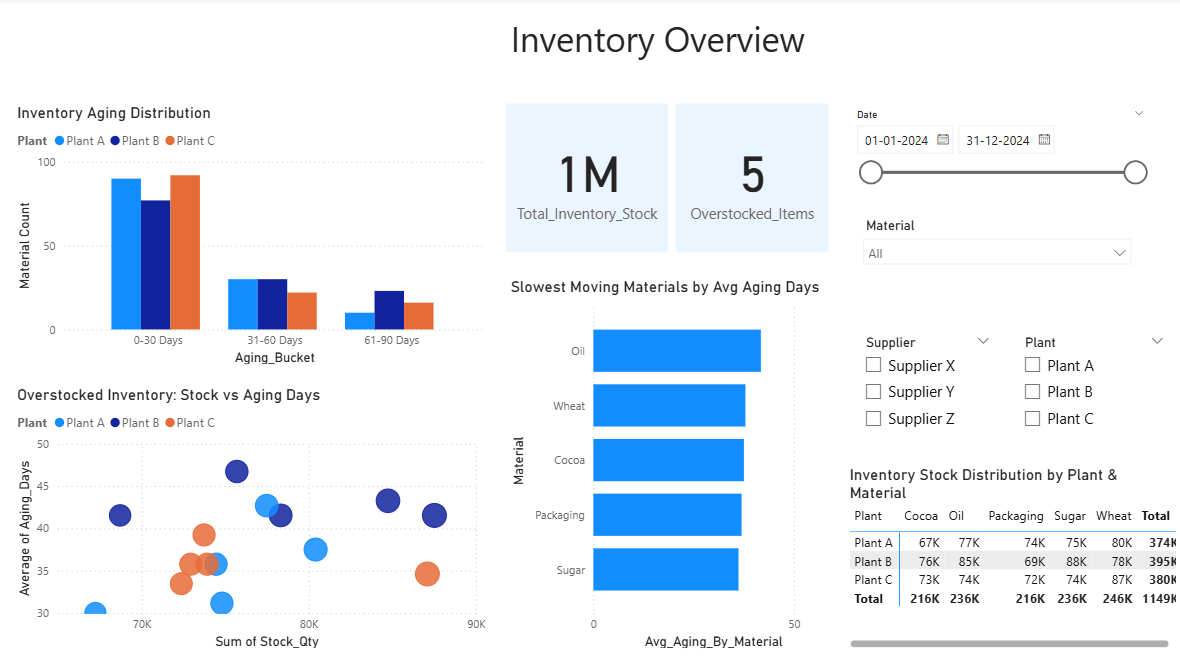

What the dashboard file says about the page in this screenshot:
{"tool":"powerbi","page":{"name":"Inventory Overview","canvas":[1280,720],"ordinal":1},"visuals":[{"type":"textbox","box":[547.3,14.6,348.1,69.6],"z":0},{"type":"clusteredBarChart","title":"Slowest Moving Materials by Avg Aging Days","fields":{"Category":["Inventory_Data.Material"],"Y":["Inventory_Data.Avg_Aging_By_Material"]},"box":[547.3,302.8,365.9,404.8],"z":1000},{"type":"scatterChart","title":"Overstocked Inventory: Stock vs Aging Days","fields":{"X":["Sum(Inventory_Data.Stock_Qty)"],"Size":["Sum(Inventory_Data.Stock_Qty)"],"Category":["Inventory_Data.Material"],"Y":["Avg(Inventory_Data.Aging_Days)"],"Series":["Inventory_Data.Plant"]},"box":[14.6,419.4,514.9,288.2],"z":2000},{"type":"pivotTable","title":"Inventory Stock Distribution by Plant & Material","fields":{"Rows":["Inventory_Data.Plant"],"Columns":["Inventory_Data.Material"],"Values":["Sum(Inventory_Data.Stock_Qty)"]},"box":[913.2,505.2,362.7,202.4],"z":3000},{"type":"clusteredColumnChart","title":"Inventory Aging Distribution","fields":{"Category":["Inventory_Data.Aging_Bucket"],"Y":["CountNonNull(Inventory_Data.Material)"],"Series":["Inventory_Data.Plant"]},"box":[14.6,115,514.9,286.6],"z":4000},{"type":"card","fields":{"Values":["Inventory_Data.Overstocked_Items"]},"box":[730.3,115,165.2,160.3],"z":5000},{"type":"card","fields":{"Values":["Inventory_Data.Total_Inventory_Stock"]},"box":[547.3,115,174.9,160.3],"z":6000},{"type":"slicer","fields":{"Values":["DateTable.Date"]},"box":[913.2,115,335.2,97.2],"z":7001},{"type":"slicer","fields":{"Values":["Procurement_Data.Supplier"]},"box":[923,359.5,158.7,136],"z":7002},{"type":"slicer","fields":{"Values":["Inventory_Data.Plant"]},"box":[1094.6,359.5,174.9,136],"z":7003},{"type":"slicer","fields":{"Values":["Inventory_Data.Material"]},"box":[923,233.2,309.3,84.2],"z":7004}]}

Visuals, with their boxes in screenshot pixels (x1, y1, x2, y2), scaled from the page's 1280x720 canvas onto the 1180x658 screenshot:
textbox: box=[505, 13, 825, 77]
"Slowest Moving Materials by Avg Aging Days" clusteredBarChart: box=[505, 277, 842, 647]
"Overstocked Inventory: Stock vs Aging Days" scatterChart: box=[13, 383, 488, 647]
"Inventory Stock Distribution by Plant & Material" pivotTable: box=[842, 462, 1176, 647]
"Inventory Aging Distribution" clusteredColumnChart: box=[13, 105, 488, 367]
card - Inventory_Data.Overstocked_Items: box=[673, 105, 826, 252]
card - Inventory_Data.Total_Inventory_Stock: box=[505, 105, 666, 252]
slicer - DateTable.Date: box=[842, 105, 1151, 194]
slicer - Procurement_Data.Supplier: box=[851, 329, 997, 453]
slicer - Inventory_Data.Plant: box=[1009, 329, 1170, 453]
slicer - Inventory_Data.Material: box=[851, 213, 1136, 290]
